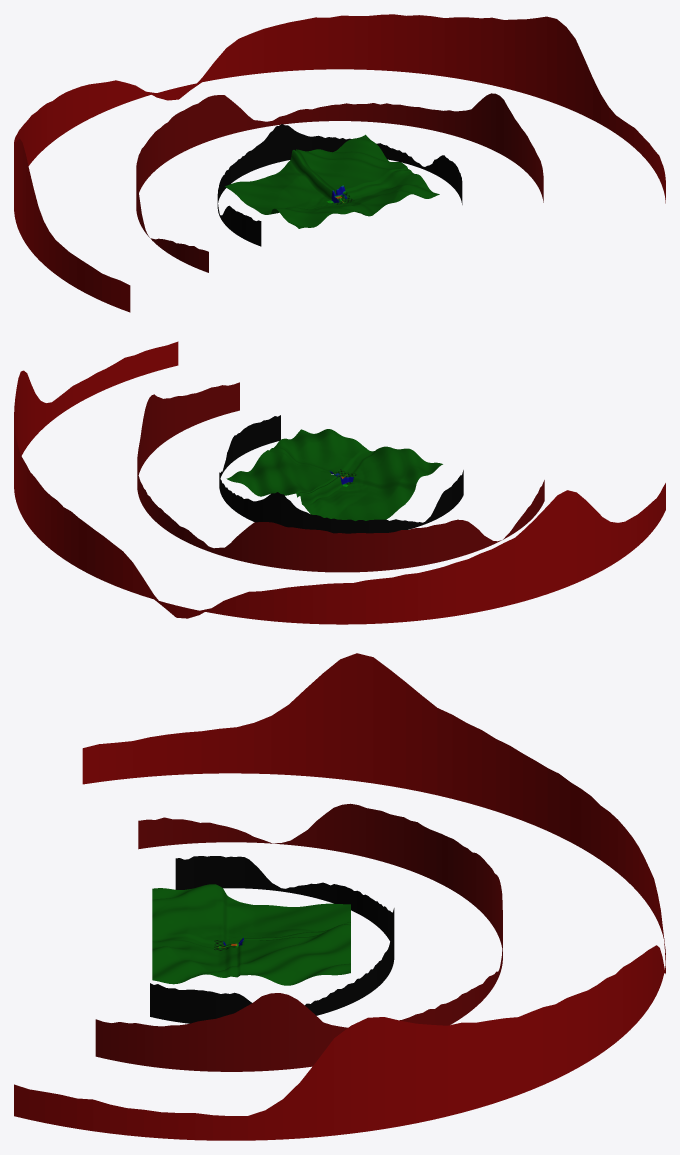
File: terrain.glb
3 renders of one model, top to bottom at view 1: azimuth 30°, elevation 25°; view 2: azimuth 150°, elevation 25°; view 3: azimuth 270°, elevation 25°, orthographic. The views are drawn at different scales.
Parts seen in each view (by area): view 1: mountains2, mountains1, far_terrain, mountains0; view 2: mountains2, mountains1, far_terrain, mountains0; view 3: mountains2, mountains1, far_terrain, mountains0.
Part boxes in pixels (left/top/right/bottom): mountains2: left=14, top=14, right=665, bottom=312; mountains1: left=136, top=93, right=543, bottom=272; far_terrain: left=225, top=134, right=439, bottom=228; mountains0: left=217, top=124, right=462, bottom=246; mountains2: left=14, top=341, right=665, bottom=624; mountains1: left=137, top=382, right=544, bottom=572; far_terrain: left=226, top=429, right=442, bottom=520; mountains0: left=219, top=415, right=463, bottom=533; mountains2: left=14, top=653, right=665, bottom=1140; mountains1: left=95, top=803, right=502, bottom=1071; far_terrain: left=152, top=884, right=350, bottom=985; mountains0: left=150, top=856, right=394, bottom=1023.
Size of the model in its own units: 4800 by 880 by 3600.
